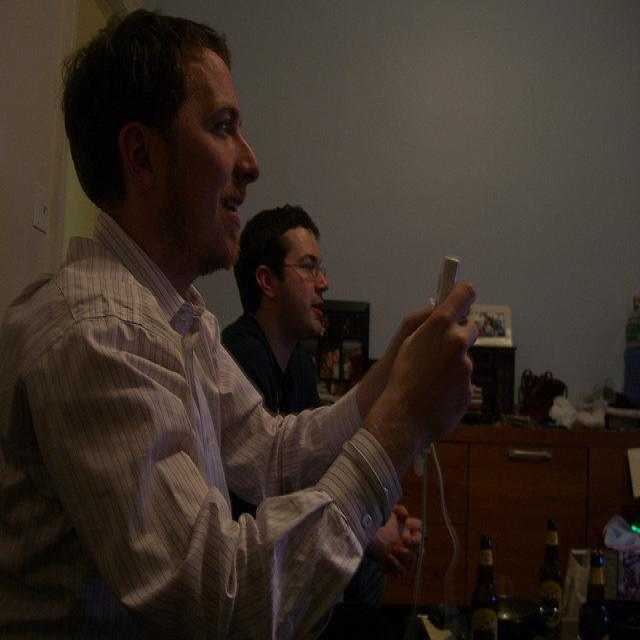Bottle: (454, 500, 514, 640), (544, 508, 585, 634), (570, 522, 610, 639)
People: (68, 9, 266, 640), (248, 192, 353, 494)
